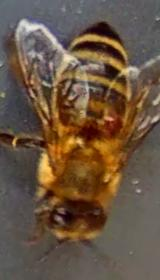varroa_mite: (93, 108, 123, 144)
